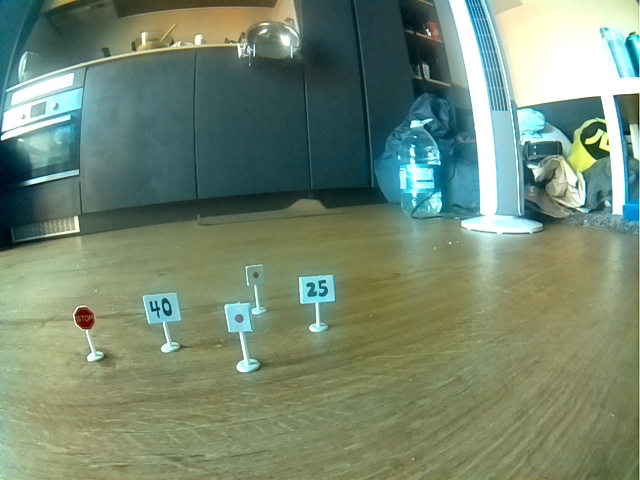red light: (226, 304, 250, 331), (247, 264, 262, 286)
speed 25: (300, 276, 333, 303)
speed 40: (144, 296, 180, 323)
stop: (73, 306, 96, 331)
